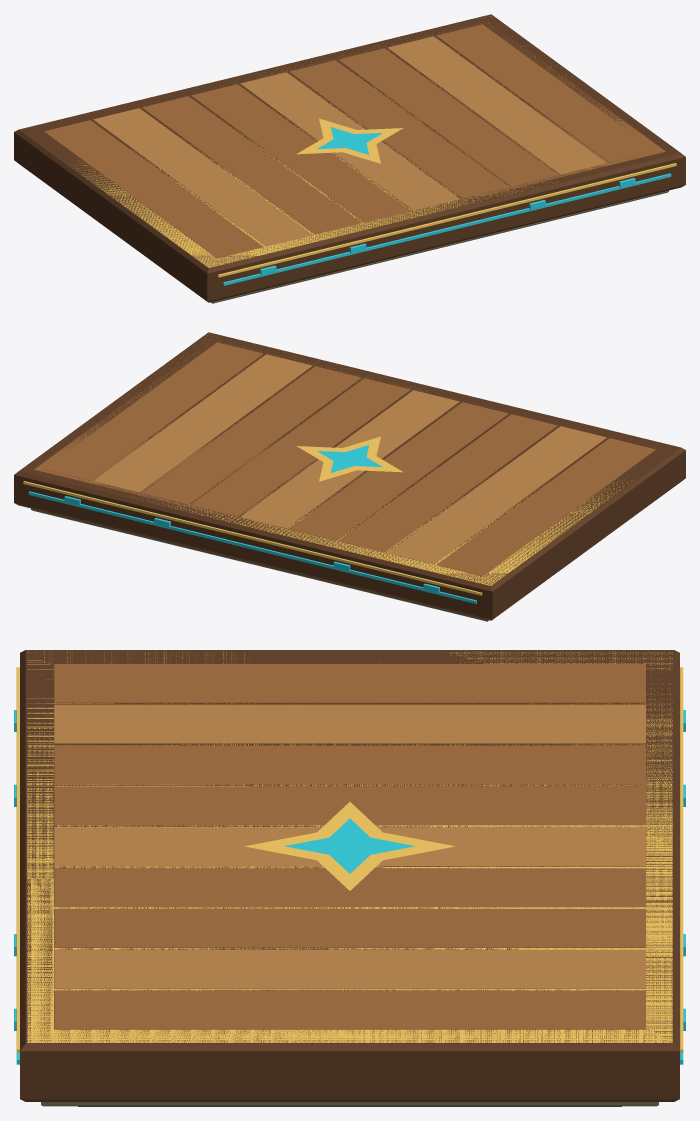
The model's file is deck.obj.
3 renders of one model, top to bottom at view 1: azimuth 30°, elevation 25°; view 2: azimuth 150°, elevation 25°; view 3: azimuth 270°, elevation 25°, orthographic. The views are drawn at different scales.
Visible parts, largest first — view 1: deck; view 2: deck; view 3: deck.
Part boxes in pixels (bbox=[...]): deck: bbox=[14, 14, 685, 303]; deck: bbox=[14, 332, 685, 621]; deck: bbox=[14, 650, 685, 1106].
Size of the model in its own units: 20 by 2.02 by 14.25.
